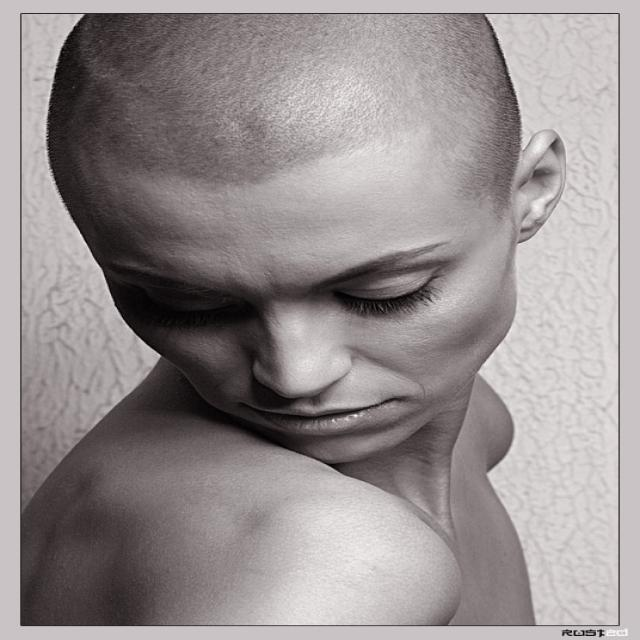no_helmet: (0, 0, 594, 176)
